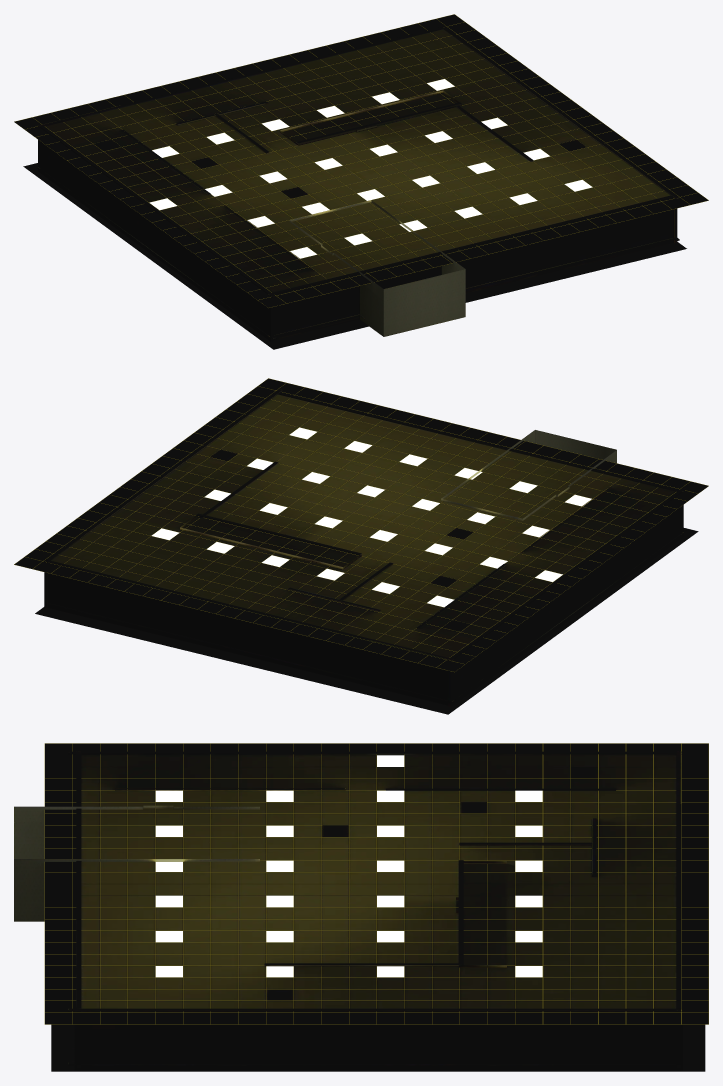
File: backrooms_vr.glb
3 renders of one model, top to bottom at view 1: azimuth 30°, elevation 25°; view 2: azimuth 150°, elevation 25°; view 3: azimuth 270°, elevation 25°, orthographic. The views are drawn at different scales.
Parts seen in each view (by area): view 1: Object_33, Object_18, Object_28, Object_16, Object_11, Object_30, Object_25; view 2: Object_33, Object_18, Object_28, Object_16, Object_25, Object_30, Object_11; view 3: Object_33, Object_18, Object_28, Object_16, Object_30, Object_11, Object_25.
Boxes of the visible parts, bbox=[...] form: Object_33: bbox=[14, 14, 708, 307]; Object_18: bbox=[38, 26, 674, 341]; Object_28: bbox=[15, 14, 708, 307]; Object_16: bbox=[37, 27, 679, 339]; Object_11: bbox=[289, 200, 465, 336]; Object_30: bbox=[149, 79, 592, 258]; Object_25: bbox=[23, 163, 686, 349]; Object_33: bbox=[14, 378, 708, 671]; Object_18: bbox=[44, 505, 683, 706]; Object_28: bbox=[14, 378, 708, 672]; Object_16: bbox=[46, 389, 686, 702]; Object_25: bbox=[35, 528, 698, 714]; Object_30: bbox=[151, 427, 591, 607]; Object_11: bbox=[441, 430, 616, 520]; Object_33: bbox=[45, 743, 708, 1024]; Object_18: bbox=[74, 752, 682, 1070]; Object_28: bbox=[44, 743, 708, 1024]; Object_16: bbox=[68, 751, 681, 1065]; Object_30: bbox=[155, 755, 542, 977]; Object_11: bbox=[14, 805, 259, 921]; Object_25: bbox=[51, 1024, 705, 1071].
Size of the model in its own units: 29.62 by 3.11 by 30.99.
11 materials, 9 textured.
